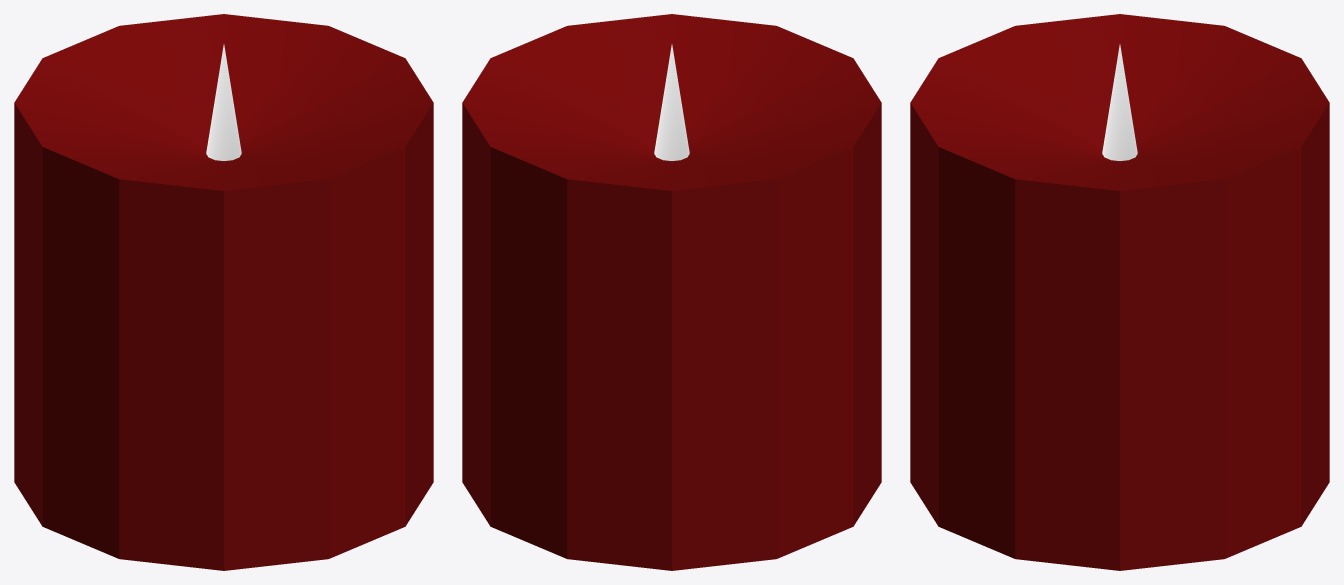
The model's file is candle_textured_red 1.fbx.
The picture shows the model from 3 angles, left to right: view 1: azimuth 30°, elevation 25°; view 2: azimuth 150°, elevation 25°; view 3: azimuth 270°, elevation 25°; orthographic projection.
Parts seen in each view (by area): view 1: pCylinder1; view 2: pCylinder1; view 3: pCylinder1.
Part boxes in pixels (bbox=[...]): pCylinder1: bbox=[14, 14, 433, 570]; pCylinder1: bbox=[462, 14, 881, 570]; pCylinder1: bbox=[910, 14, 1329, 570].
Size of the model in its own units: 2 by 2.31 by 2.
